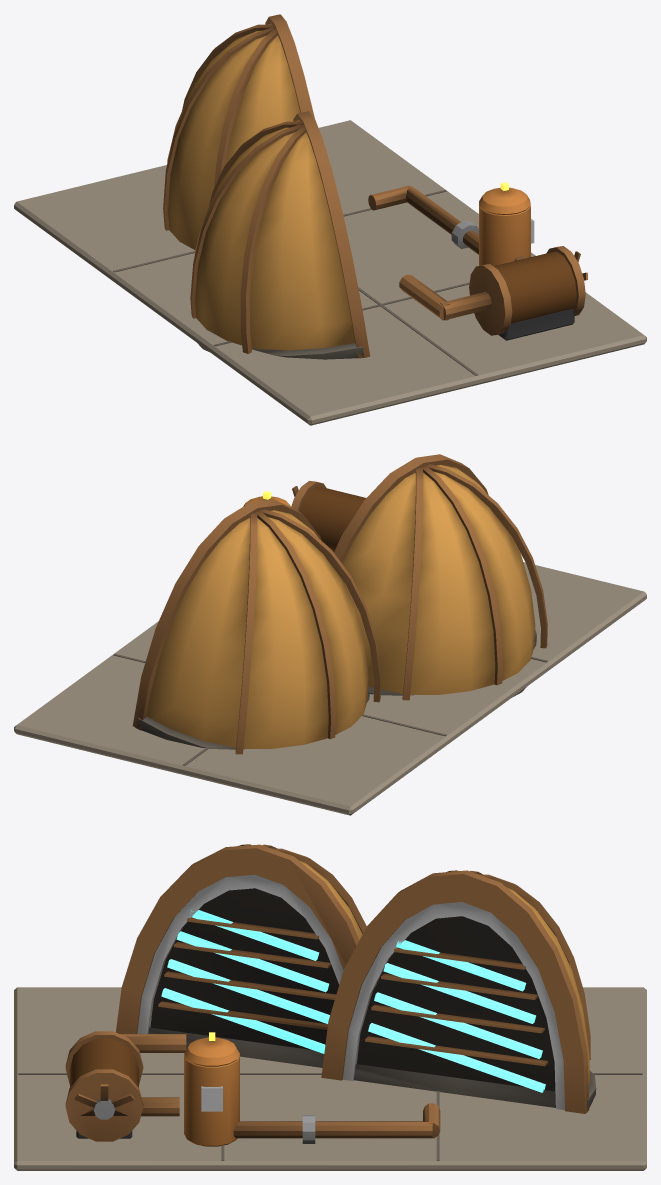
Rendered from ORDOS_WIND_TRAP.glb.
3 renders of one model, top to bottom at view 1: azimuth 30°, elevation 25°; view 2: azimuth 150°, elevation 25°; view 3: azimuth 270°, elevation 25°, orthographic. The views are drawn at different scales.
Visible parts, largest first — view 1: base, shell_S, shell_N, turbine; view 2: shell_N, shell_S, base, turbine; view 3: base, shell_N, shell_S, turbine, fan.
Part boxes in pixels (<box>): base: <box>14,120,646,425</box>; shell_S: <box>190,111,370,359</box>; shell_N: <box>163,14,314,249</box>; turbine: <box>368,182,585,340</box>; shell_N: <box>132,499,381,754</box>; shell_S: <box>334,454,547,700</box>; base: <box>14,562,646,815</box>; turbine: <box>243,480,365,552</box>; base: <box>14,987,646,1170</box>; shell_N: <box>321,870,596,1113</box>; shell_S: <box>116,844,376,1067</box>; turbine: <box>65,1031,440,1146</box>; fan: <box>74,1084,134,1119</box>.
Size of the model in its own units: 1.94 by 1.18 by 2.94.
